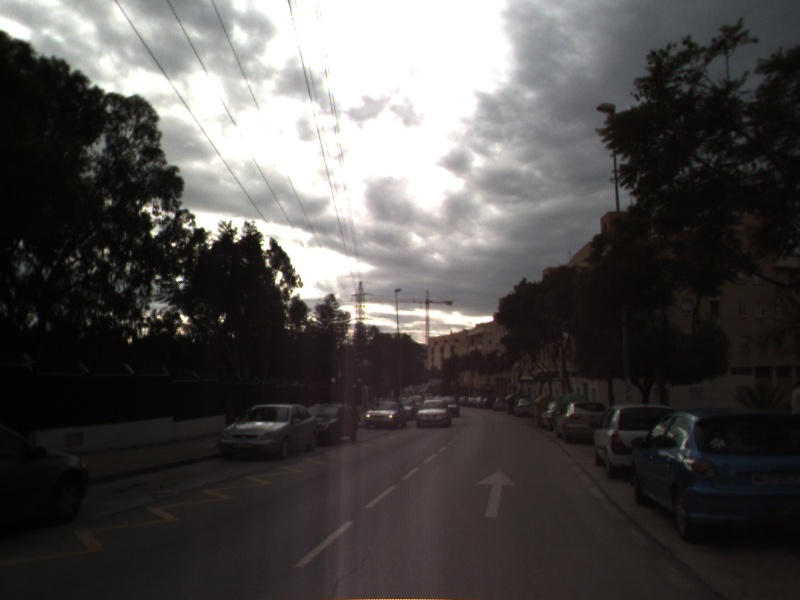STRAIGHT: (475, 468, 520, 520)
